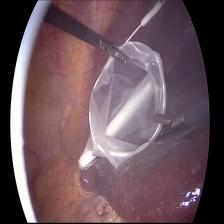Grasper: (150, 106, 187, 142), (99, 34, 129, 70)
Specimen Bag: (75, 10, 172, 180)
